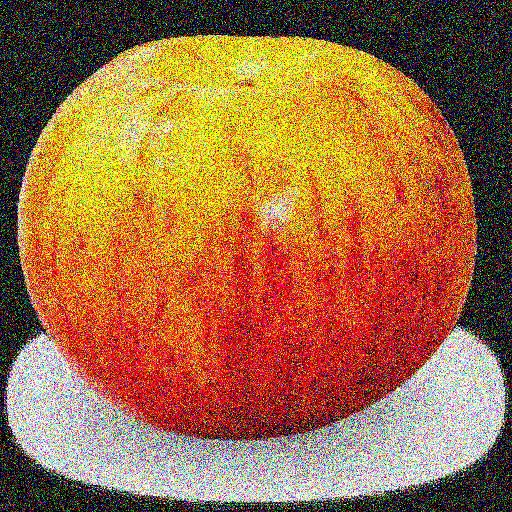fruit: (423, 137, 499, 488)
